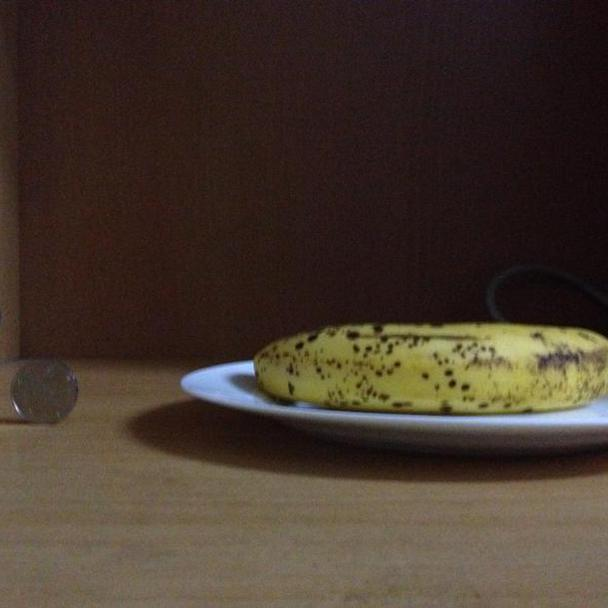banana: (251, 310, 608, 412)
